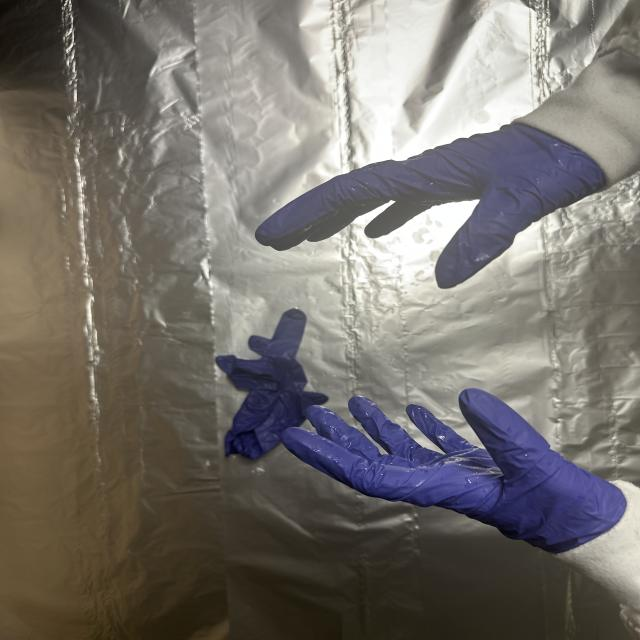gloves_contaminated: (256, 125, 604, 288), (283, 389, 626, 552)
